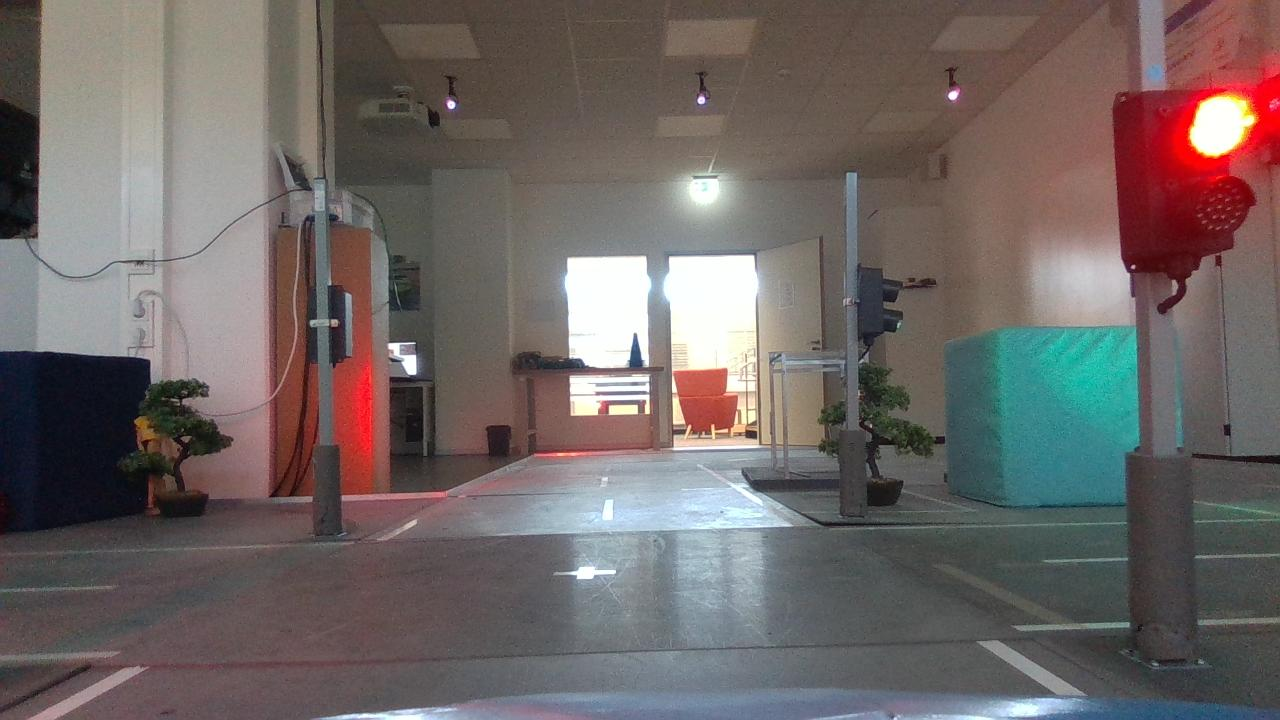traffic_light_red: (1100, 77, 1268, 292)
